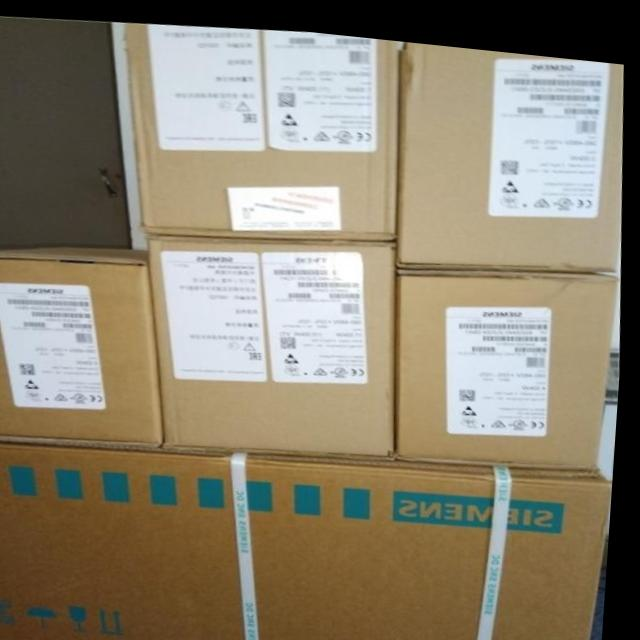box: (0, 439, 618, 640), (128, 21, 399, 236), (150, 231, 400, 446), (398, 33, 624, 258), (399, 257, 619, 458), (0, 243, 170, 442)
